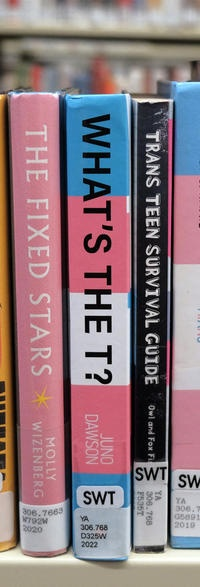call_number: (73, 508, 128, 557), (20, 503, 69, 551), (134, 486, 166, 546), (171, 492, 200, 537)
